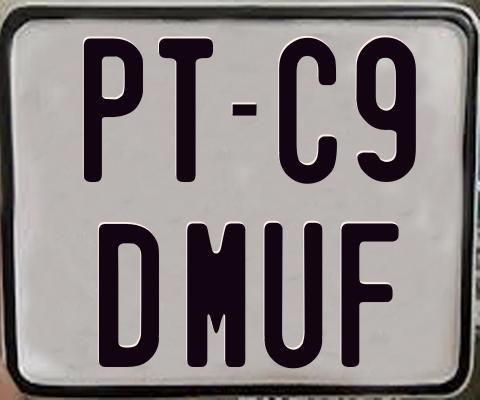9: (355, 34, 417, 185)
C: (279, 36, 338, 187)
D: (97, 224, 161, 372)
F: (340, 223, 404, 368)
M: (186, 221, 251, 368)
P: (83, 36, 147, 181)
T: (158, 37, 213, 187)
U: (262, 221, 324, 370)
